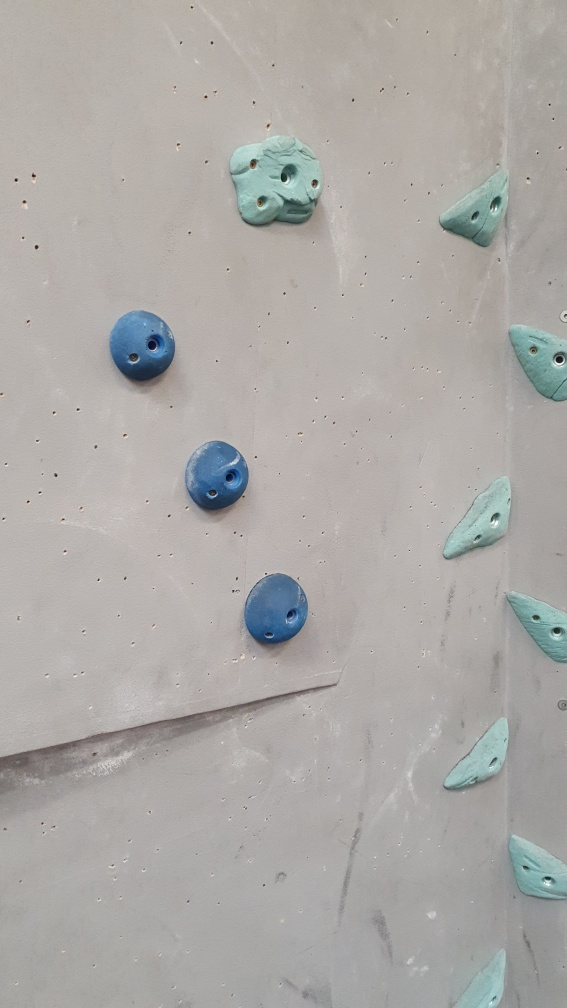Crimp: (436, 471, 520, 562), (438, 168, 515, 257), (443, 707, 521, 793), (500, 580, 567, 666), (502, 317, 567, 403), (502, 824, 567, 907), (444, 938, 508, 1007)
Sloper: (179, 434, 261, 517), (106, 304, 184, 389), (239, 569, 319, 649)
